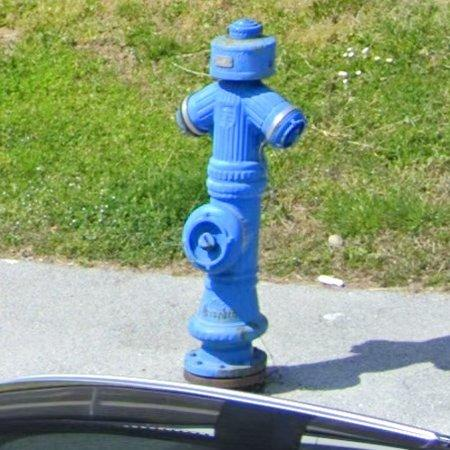a fire hydrant: (177, 18, 307, 388)
